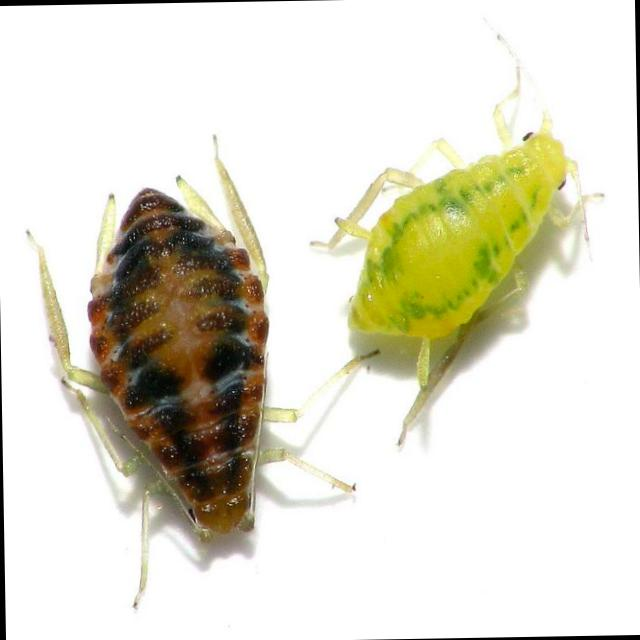Aphids: (35, 139, 305, 598), (316, 70, 606, 428)
